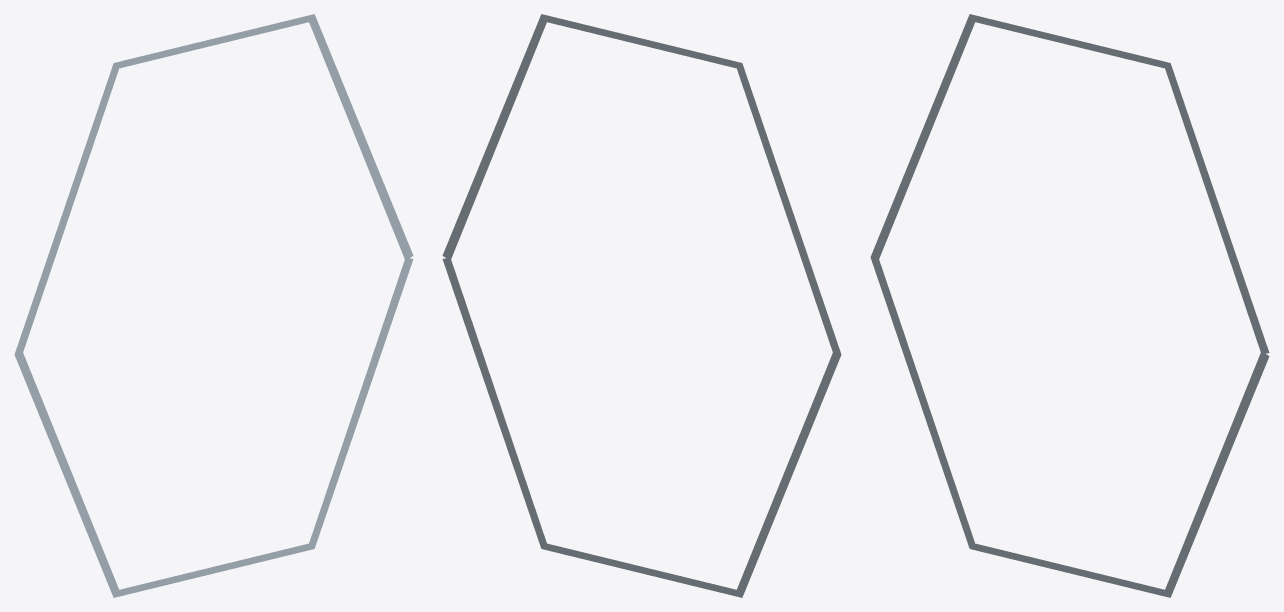
The model's file is 2066_StoneSeal_Overall_HexagonalSeal.fbx.
3 views of the same model, side by side, from view 1: azimuth 30°, elevation 25°; view 2: azimuth 150°, elevation 25°; view 3: azimuth 330°, elevation 25° (orthographic).
Visible parts, largest first — view 1: PART_TransparentGeoSeal; view 2: PART_TransparentGeoSeal; view 3: PART_TransparentGeoSeal.
Boxes of the visible parts, x1,y1,x2,y2 form: PART_TransparentGeoSeal: [14, 14, 413, 597]; PART_TransparentGeoSeal: [442, 14, 841, 597]; PART_TransparentGeoSeal: [870, 14, 1269, 597].
Bounding box in the file's own units: 241 × 309 × 5.03e-05.
